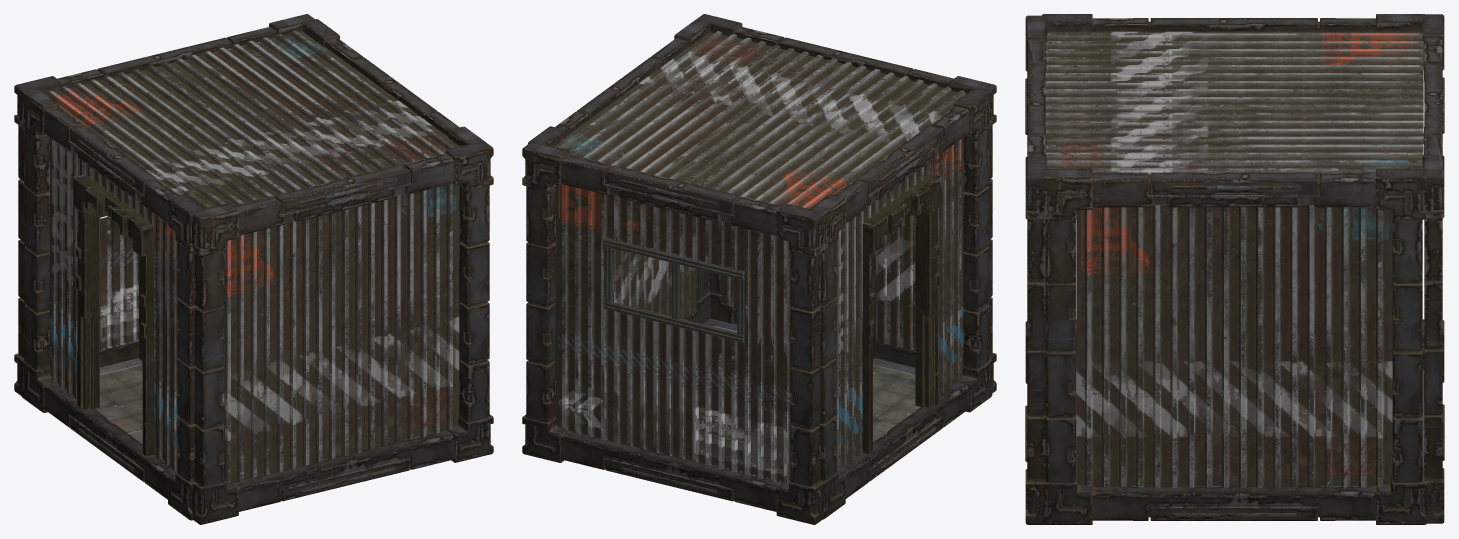
File: SM_Small_Shipping_Container_Building.fbx
The picture shows the model from 3 angles, left to right: view 1: azimuth 30°, elevation 25°; view 2: azimuth 150°, elevation 25°; view 3: azimuth 270°, elevation 25°; orthographic projection. The views are drawn at different scales.
Visible parts, largest first — view 1: SM_Small_Shipping_Container_Building_LOD0; view 2: SM_Small_Shipping_Container_Building_LOD0; view 3: SM_Small_Shipping_Container_Building_LOD0.
Boxes of the visible parts, x1=… form: SM_Small_Shipping_Container_Building_LOD0: x1=14, y1=14, x2=493, y2=524; SM_Small_Shipping_Container_Building_LOD0: x1=522, y1=14, x2=996, y2=524; SM_Small_Shipping_Container_Building_LOD0: x1=1025, y1=14, x2=1444, y2=524.
Bounding box in the file's own units: 297 × 317 × 291.
Materials: 5 (5 with a texture image).
